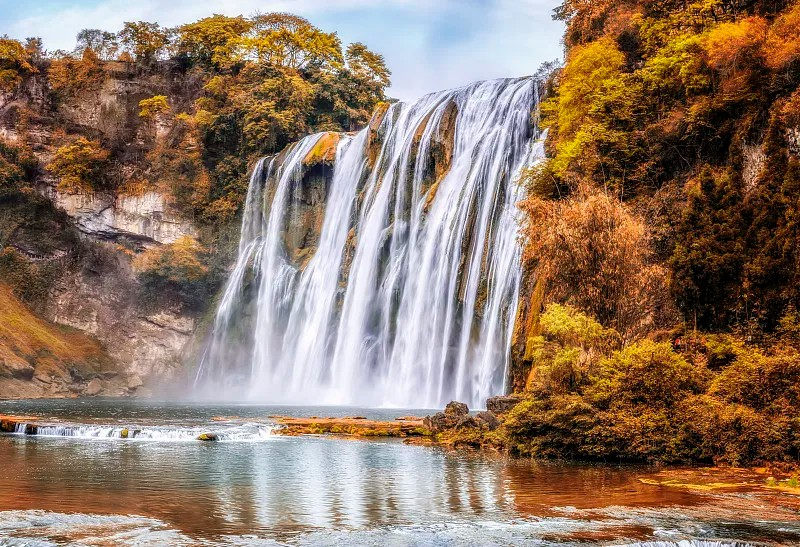Huangguoshu: (195, 78, 546, 408)
